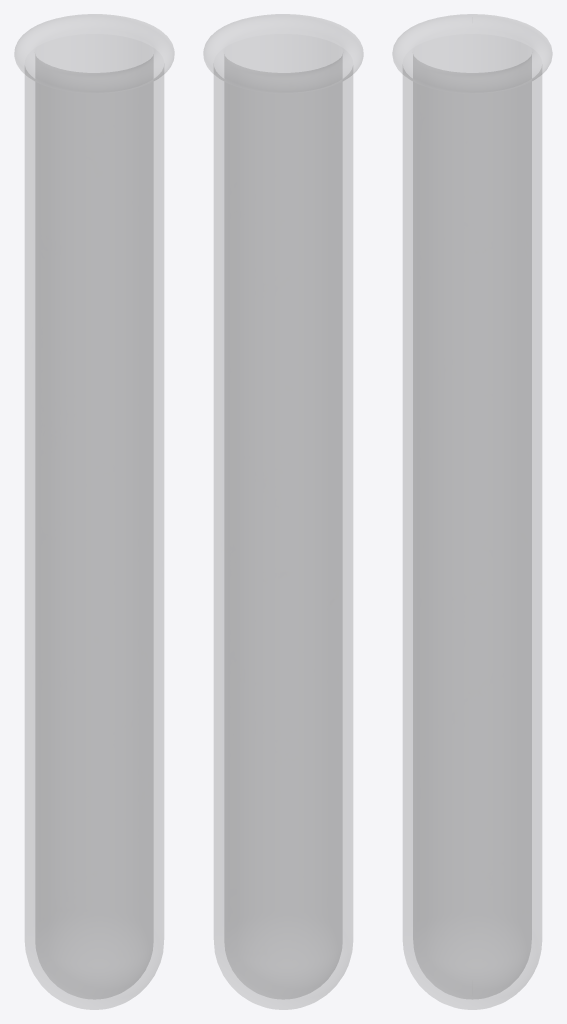
File: TestTube.glb
The picture shows the model from 3 angles, left to right: view 1: azimuth 30°, elevation 25°; view 2: azimuth 150°, elevation 25°; view 3: azimuth 270°, elevation 25°; orthographic projection.
Parts seen in each view (by area): view 1: test_tube_base_realistic_lod0; view 2: test_tube_base_realistic_lod0; view 3: test_tube_base_realistic_lod0.
Boxes of the visible parts, box(x1,y1,x2,y2) form: test_tube_base_realistic_lod0: box(14, 14, 174, 1009); test_tube_base_realistic_lod0: box(203, 14, 363, 1009); test_tube_base_realistic_lod0: box(392, 14, 552, 1009).
Bounding box in the file's own units: 0.023 × 0.1515 × 0.023.
1 material, 1 textured.
